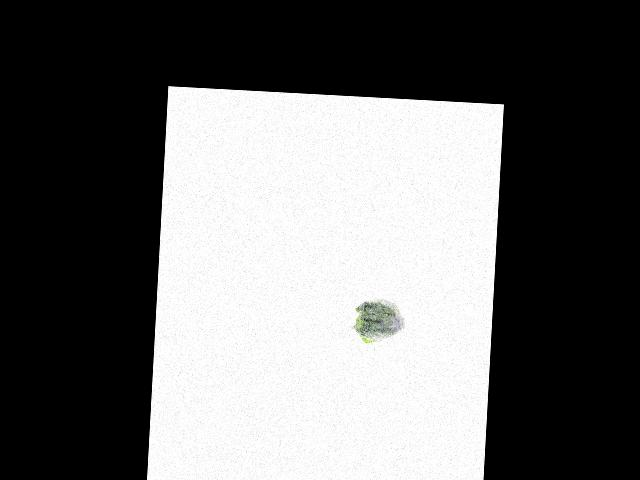lettuce: (352, 296, 406, 347)
